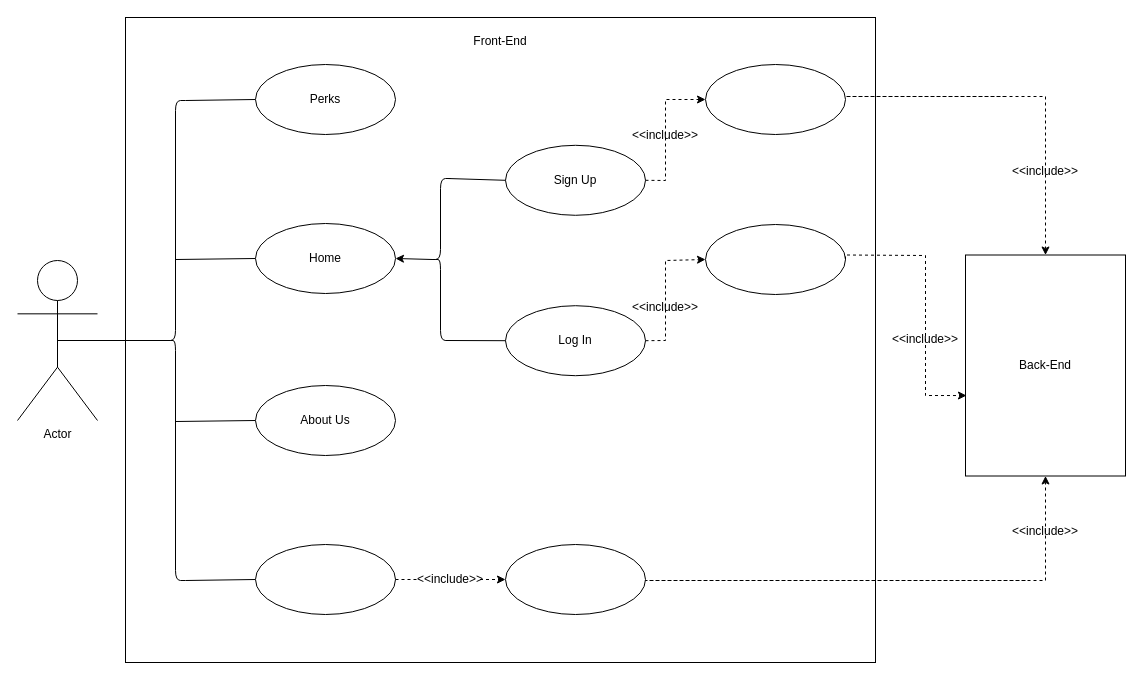
This 1143x680 diagram has some shape labels left out. Here are the shapes that lost their labels. From the top down, the box of each, then its label:
(704, 64, 846, 134): Verify Sign Up
(704, 224, 846, 294): Verify Login In
(254, 544, 396, 614): Admin Login
(504, 544, 646, 614): Verify Admin Login
